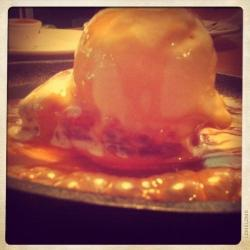apple_pie: (16, 71, 242, 218)
icecream: (75, 12, 225, 139)
